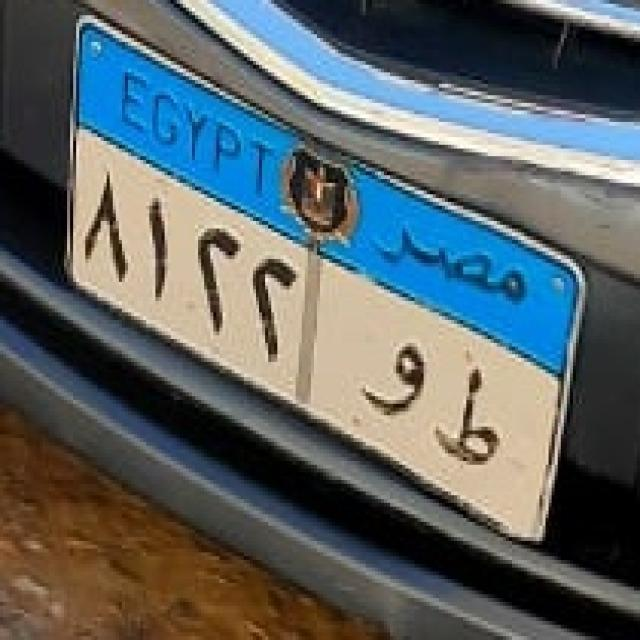1: (140, 192, 181, 312)
2: (188, 210, 248, 348), (248, 241, 306, 372)
8: (78, 159, 134, 289)
Taa: (430, 342, 507, 474)
Wow: (352, 322, 430, 432)
